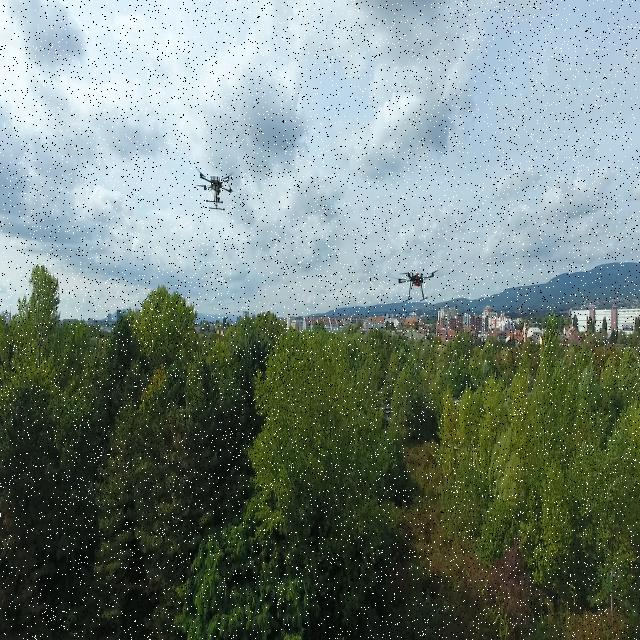UAV: (195, 161, 237, 215), (388, 263, 445, 302)
